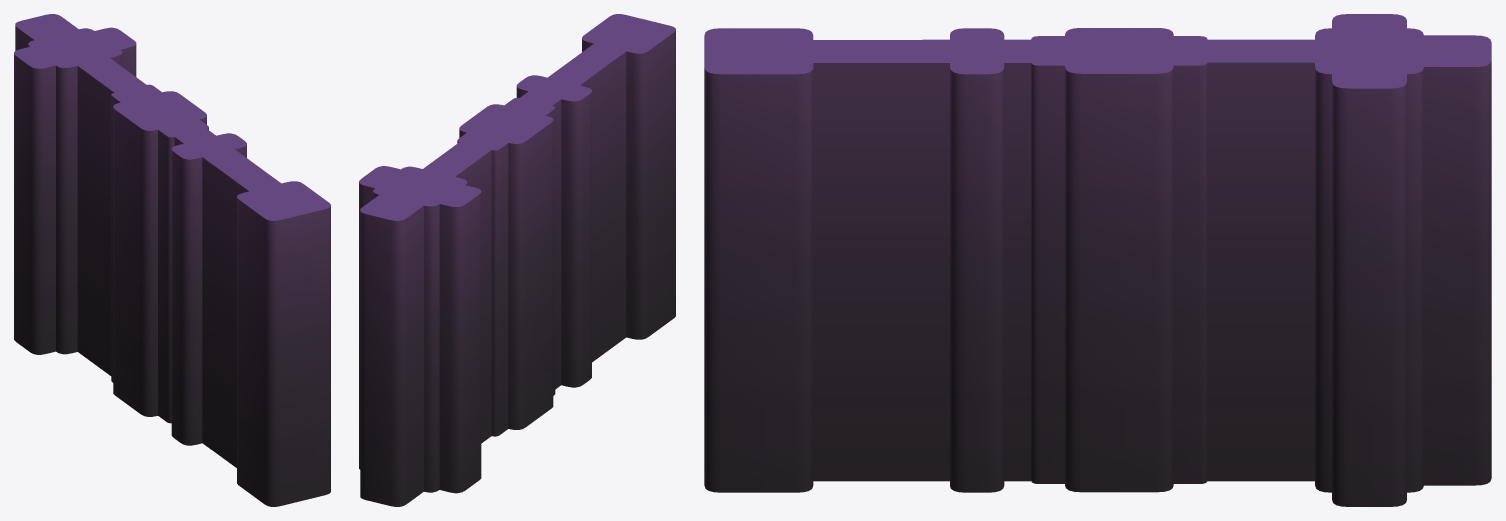
File: Water Block.FBX
3 views of the same model, side by side, from view 1: azimuth 30°, elevation 25°; view 2: azimuth 150°, elevation 25°; view 3: azimuth 270°, elevation 25° (orthographic). The views are drawn at different scales.
Visible parts, largest first — view 1: 1, 6, 4, 3, 5, 2; view 2: 6, 4, 1, 3, 2, 5; view 3: 6, 4, 1, 3, 2, 5.
Boxes of the visible parts, box(x1,y1,x2,y2) form: 1: box(237, 181, 330, 506); 6: box(14, 14, 136, 354); 4: box(111, 84, 208, 423); 3: box(171, 129, 246, 449); 5: box(77, 58, 146, 375); 2: box(212, 156, 281, 467); 6: box(359, 166, 481, 506); 4: box(457, 98, 555, 436); 1: box(582, 14, 675, 339); 3: box(516, 71, 591, 389); 2: box(557, 43, 626, 362); 5: box(423, 142, 491, 443); 6: box(1315, 14, 1491, 506); 4: box(1031, 28, 1207, 492); 1: box(704, 28, 813, 492); 3: box(922, 28, 1030, 492); 2: box(813, 40, 922, 481); 5: box(1207, 39, 1314, 481).
Bounding box in the file's own units: 984 × 2575 × 4390.
Materials: 1 (1 with a texture image).
